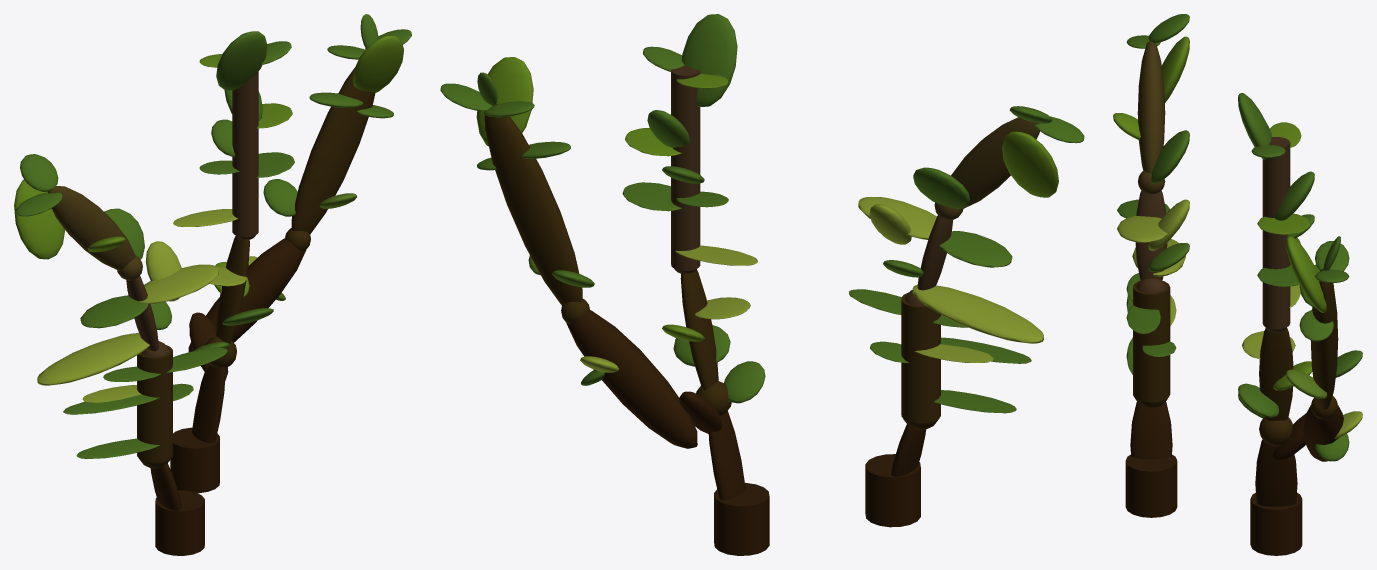
Rendered from CMU3DRMCBushd2.glb.
3 renders of one model, left to right at view 1: azimuth 30°, elevation 25°; view 2: azimuth 150°, elevation 25°; view 3: azimuth 270°, elevation 25°, orthographic. The views are drawn at different scales.
Parts seen in each view (by area): view 1: visible stem 2 section 1, visible stem 1 section 2, visible stem 0 section 1, visible stem 0 section 3, visible stem 2 section 0, source leaf patch 31, rounded root base 0, rounded root base 1, source leaf patch 8, source leaf patch 0, source leaf patch 12, visible stem 1 section 0 (+22 smaller); view 2: visible stem 2 section 1, visible stem 2 section 0, visible stem 1 section 2, visible stem 0 section 1, source leaf patch 31, rounded root base 1, rounded root base 0, source leaf patch 0, visible stem 0 section 3, source leaf patch 8, visible stem 1 section 1, visible stem 1 section 0 (+21 smaller); view 3: visible stem 1 section 2, visible stem 0 section 1, rounded root base 0, visible stem 0 section 3, rounded root base 1, visible stem 1 section 1, visible stem 1 section 0, visible stem 2 section 1, visible stem 0 section 0, source leaf patch 12, visible stem 0 section 2, visible stem 2 section 0 (+32 smaller).
Boxes of the visible parts, x1,y1,x2,y2 form: visible stem 2 section 1: [291, 68, 375, 234]; visible stem 1 section 2: [232, 72, 258, 237]; visible stem 0 section 1: [137, 345, 172, 462]; visible stem 0 section 3: [48, 186, 135, 270]; visible stem 2 section 0: [188, 238, 306, 352]; source leaf patch 31: [37, 333, 149, 385]; rounded root base 0: [155, 490, 204, 555]; rounded root base 1: [170, 427, 219, 493]; source leaf patch 8: [14, 179, 65, 259]; source leaf patch 0: [216, 31, 267, 90]; source leaf patch 12: [353, 35, 403, 92]; visible stem 1 section 0: [192, 365, 225, 442]; visible stem 2 section 1: [484, 103, 582, 305]; visible stem 2 section 0: [566, 310, 697, 448]; visible stem 1 section 2: [671, 65, 700, 270]; visible stem 0 section 1: [901, 292, 940, 423]; source leaf patch 31: [912, 284, 1043, 343]; rounded root base 1: [714, 482, 769, 555]; rounded root base 0: [865, 454, 920, 527]; source leaf patch 0: [681, 14, 737, 107]; visible stem 0 section 3: [951, 117, 1039, 209]; source leaf patch 8: [1002, 131, 1058, 197]; visible stem 1 section 1: [680, 269, 718, 389]; visible stem 1 section 0: [708, 411, 745, 500]; visible stem 1 section 2: [1262, 137, 1290, 329]; visible stem 0 section 1: [1133, 281, 1170, 402]; rounded root base 0: [1125, 454, 1177, 517]; visible stem 0 section 3: [1137, 41, 1165, 173]; rounded root base 1: [1250, 492, 1302, 555]; visible stem 1 section 1: [1259, 328, 1293, 420]; visible stem 1 section 0: [1255, 439, 1297, 506]; visible stem 2 section 1: [1310, 269, 1338, 409]; visible stem 0 section 0: [1130, 402, 1172, 459]; source leaf patch 12: [1286, 236, 1326, 312]; visible stem 0 section 2: [1135, 190, 1167, 280]; visible stem 2 section 0: [1303, 405, 1343, 461].
Bounding box in the file's own units: 0.6013 × 0.539 × 0.2599.
